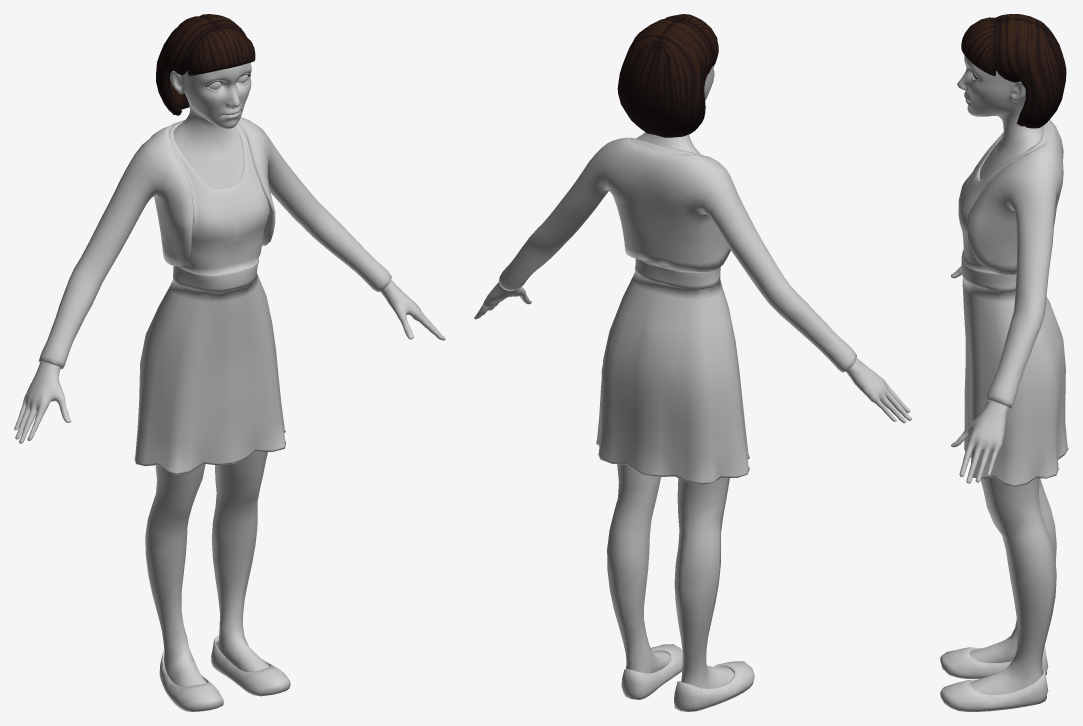
File: jackie_rig_hadron.fbx
The picture shows the model from 3 angles, left to right: view 1: azimuth 30°, elevation 25°; view 2: azimuth 150°, elevation 25°; view 3: azimuth 270°, elevation 25°; orthographic projection.
Parts seen in each view (by area): view 1: outfit_geo, body_geo, head_geo, hair_geo; view 2: outfit_geo, body_geo, hair_geo, head_geo; view 3: outfit_geo, body_geo, hair_geo, head_geo.
Boxes of the visible parts, bbox=[...] form: outfit_geo: bbox=[38, 117, 391, 711]; body_geo: bbox=[14, 280, 445, 686]; head_geo: bbox=[170, 62, 251, 188]; hair_geo: bbox=[156, 14, 255, 115]; outfit_geo: bbox=[498, 137, 856, 711]; body_geo: bbox=[474, 282, 911, 688]; hair_geo: bbox=[617, 14, 718, 137]; head_geo: bbox=[636, 65, 714, 154]; outfit_geo: bbox=[940, 120, 1068, 711]; body_geo: bbox=[951, 266, 1056, 694]; hair_geo: bbox=[961, 14, 1066, 128]; head_geo: bbox=[957, 55, 1043, 179].
Size of the model in its own units: 122 by 181 by 31.5.
